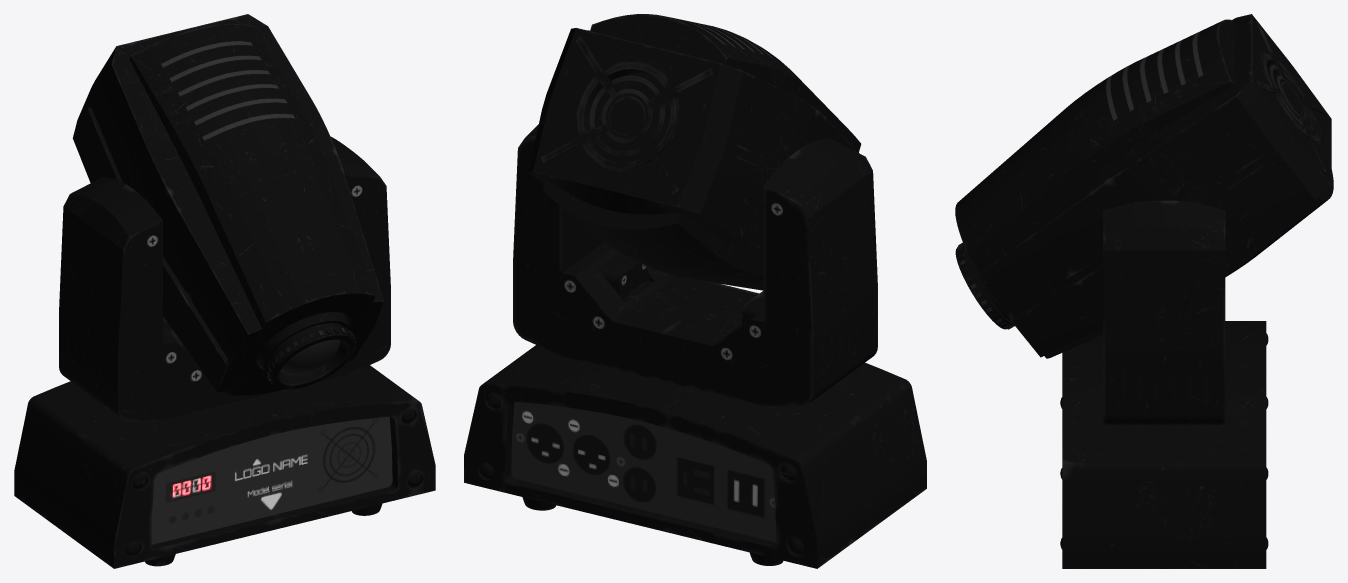
Rendered from moving_head.glb.
The picture shows the model from 3 angles, left to right: view 1: azimuth 30°, elevation 25°; view 2: azimuth 150°, elevation 25°; view 3: azimuth 270°, elevation 25°; orthographic projection. The views are drawn at different scales.
Parts seen in each view (by area): view 1: Head, Base, Yoke, LensFrame, Lens, BaseScrews; view 2: Base, Yoke, Head, FanCover, YokeElement, BaseScrews; view 3: Head, Base, Yoke, FanCover, LensFrame.
Boxes of the visible parts, x1=… form: Head: x1=72, y1=14, x2=383, y2=395; Base: x1=14, y1=365, x2=435, y2=568; Yoke: x1=59, y1=136, x2=390, y2=421; LensFrame: x1=257, y1=312, x2=356, y2=389; Lens: x1=280, y1=339, x2=340, y2=375; BaseScrews: x1=126, y1=408, x2=421, y2=555; Base: x1=464, y1=345, x2=926, y2=568; Yoke: x1=513, y1=124, x2=877, y2=406; Head: x1=528, y1=14, x2=861, y2=290; FanCover: x1=541, y1=36, x2=713, y2=195; YokeElement: x1=597, y1=252, x2=763, y2=324; BaseScrews: x1=479, y1=392, x2=803, y2=554; Head: x1=955, y1=14, x2=1333, y2=358; Base: x1=1062, y1=321, x2=1266, y2=568; Yoke: x1=1103, y1=200, x2=1225, y2=424; FanCover: x1=1256, y1=22, x2=1326, y2=173; LensFrame: x1=955, y1=242, x2=1014, y2=329.
Size of the model in its own units: 1.12 by 1.53 by 1.11.
Materials: 10 (9 with a texture image).
